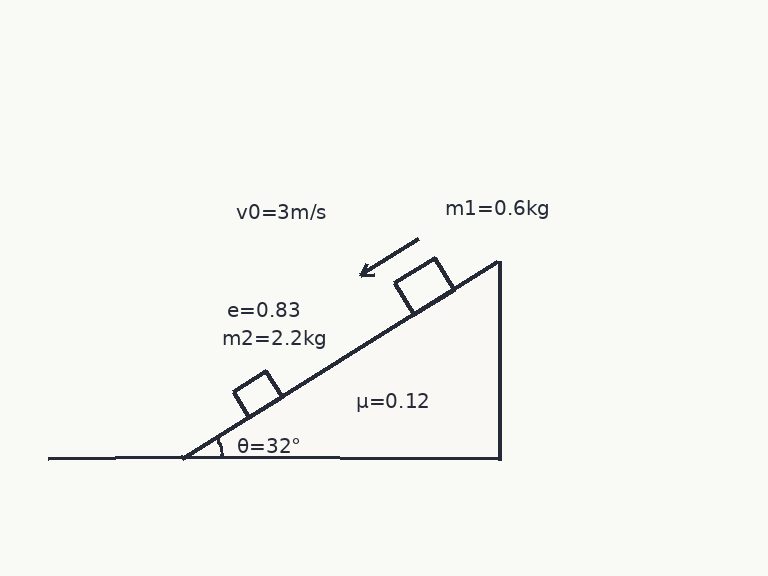block: (392, 256, 456, 316), (231, 369, 284, 419)
ramp: (180, 258, 500, 460)
